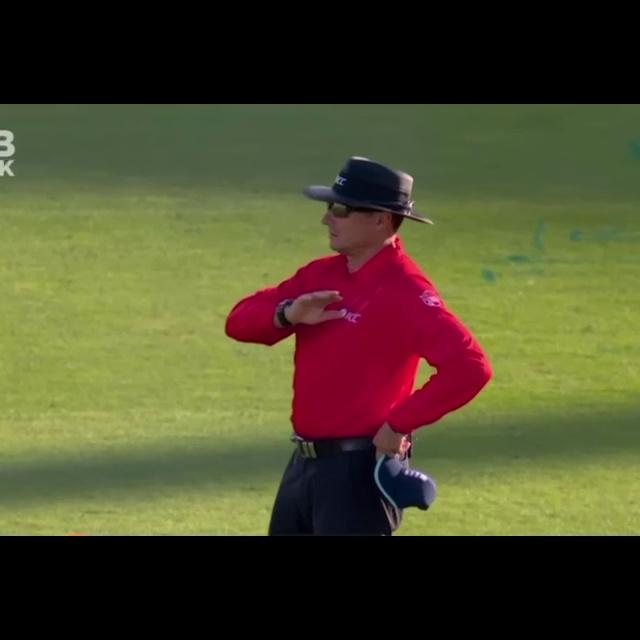umpire: (207, 131, 517, 536)
